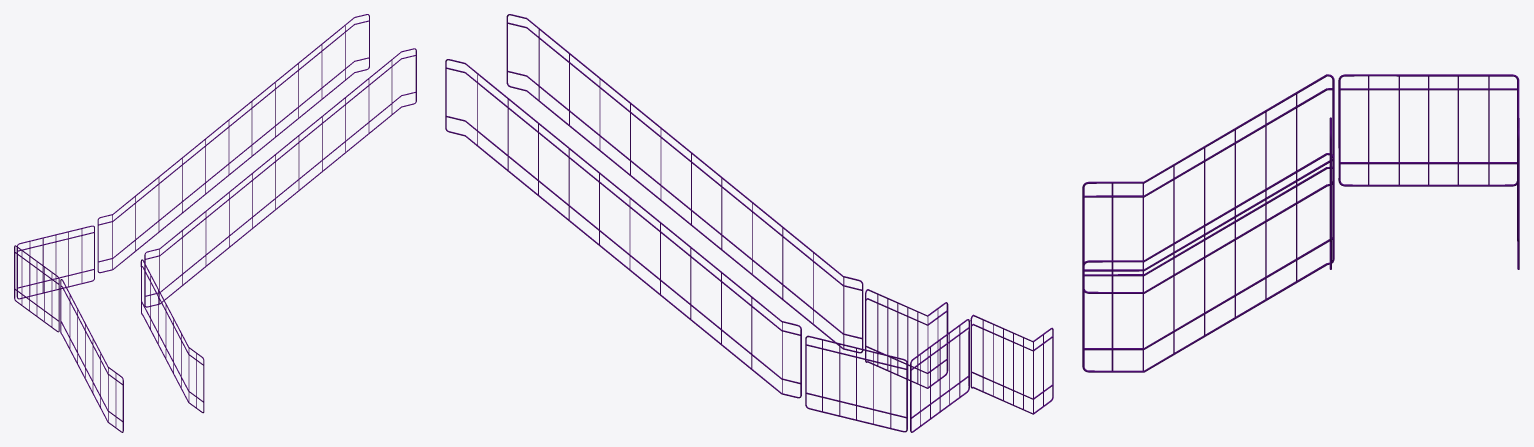
The model's file is StairRail.fbx.
3 renders of one model, left to right at view 1: azimuth 30°, elevation 25°; view 2: azimuth 150°, elevation 25°; view 3: azimuth 270°, elevation 25°, orthographic. The views are drawn at different scales.
Visible parts, largest first — view 1: StairRail; view 2: StairRail; view 3: StairRail.
Boxes of the visible parts, box(x1,y1,x2,y2) form: StairRail: box(14, 14, 416, 432); StairRail: box(445, 14, 1053, 432); StairRail: box(1082, 74, 1519, 372).
Bounding box in the file's own units: 535 × 365 × 285.
